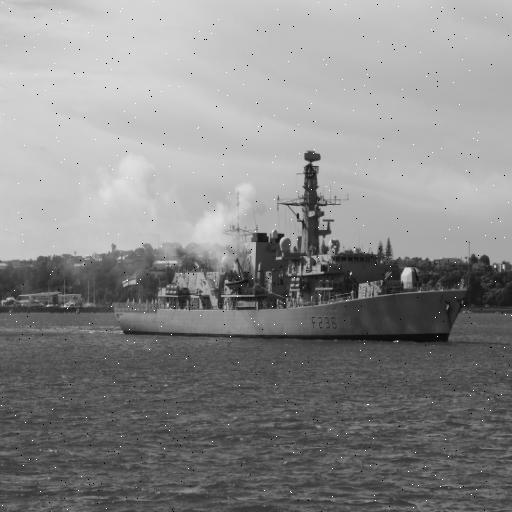Fragata: (117, 146, 471, 350)
